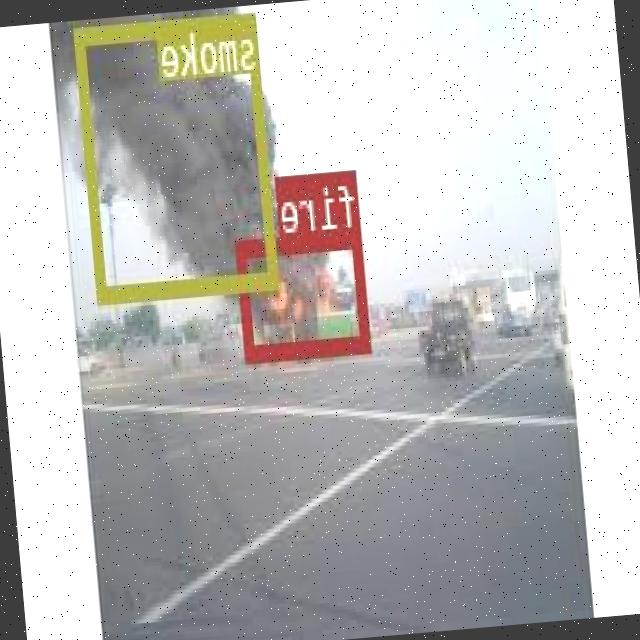fire: (238, 228, 372, 359)
smoke: (76, 8, 281, 302)
